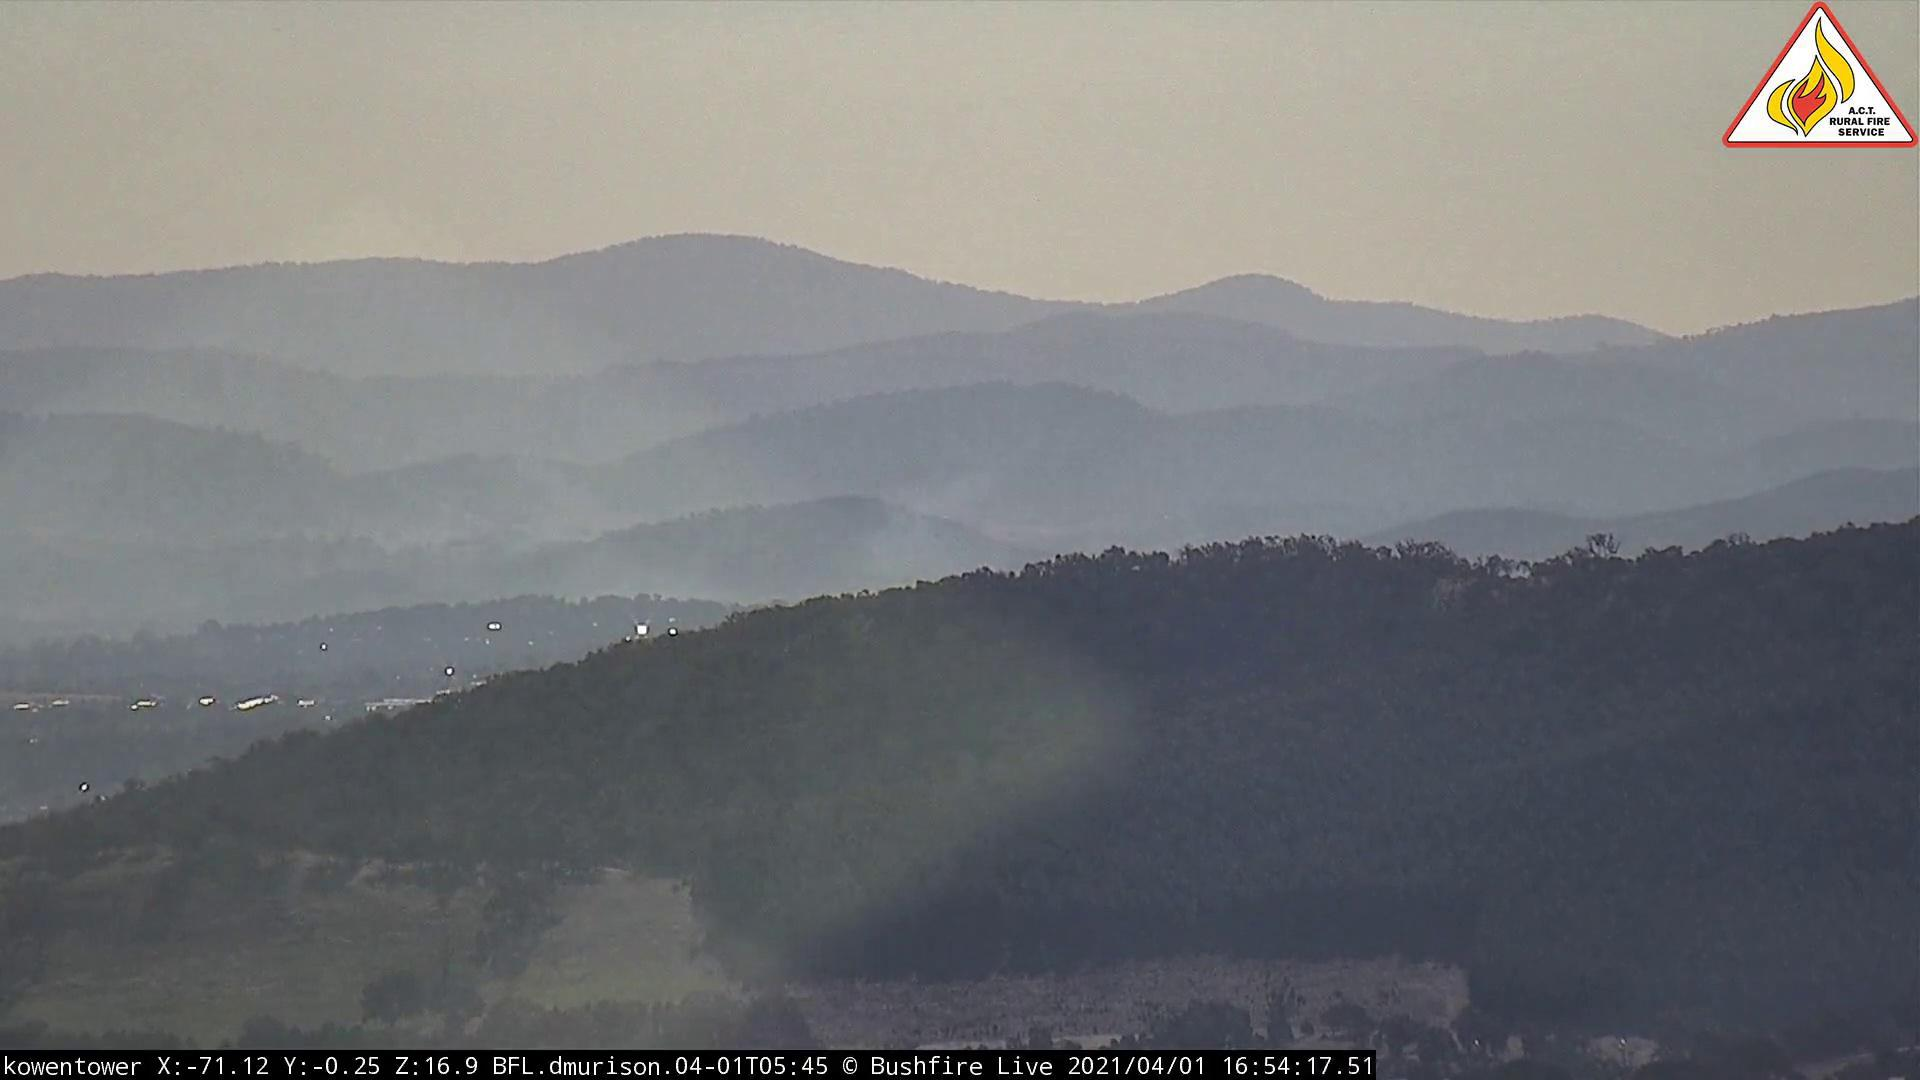Smoke: (506, 447, 1101, 673)
